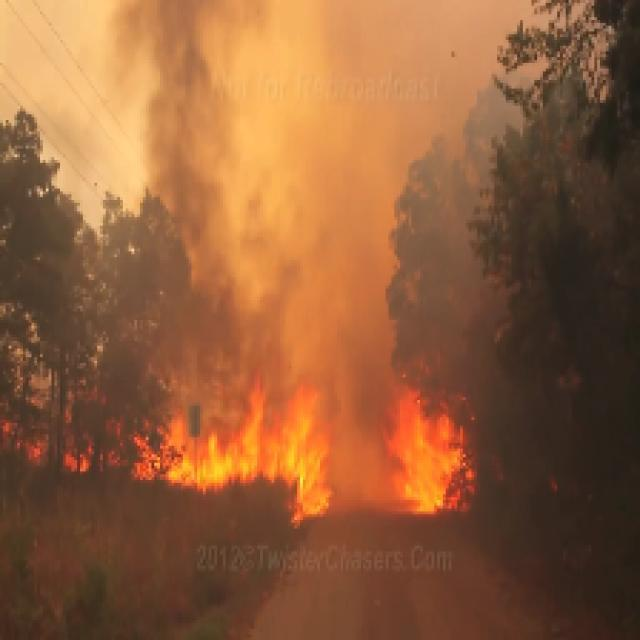Fire: (140, 372, 477, 514)
Smoke: (171, 31, 386, 343)
